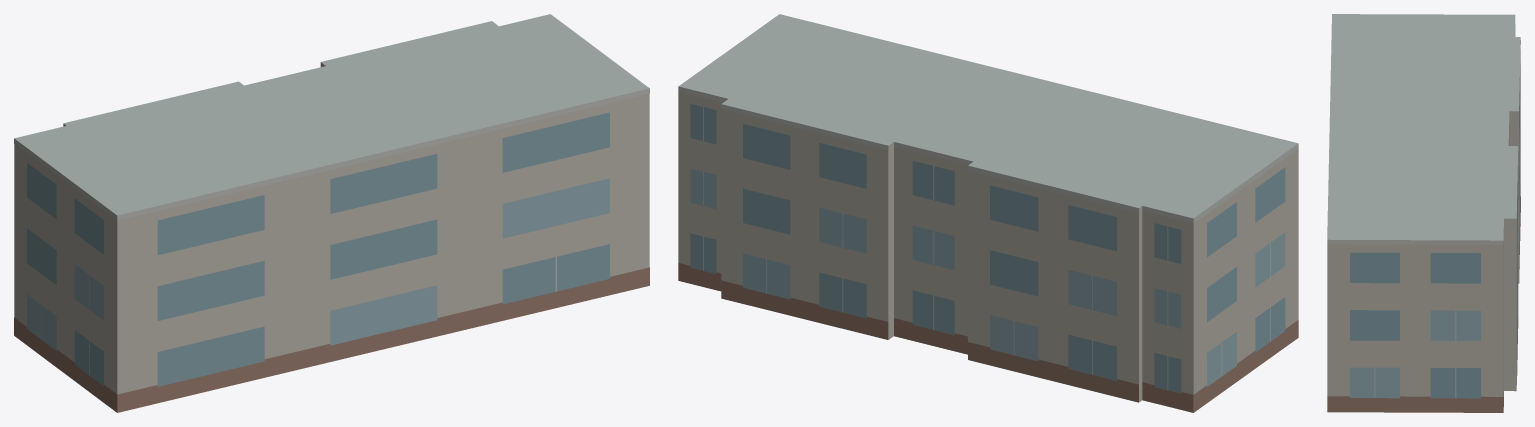
Rendered from survey-upis-32805415.glb.
The picture shows the model from 3 angles, left to right: view 1: azimuth 30°, elevation 25°; view 2: azimuth 150°, elevation 25°; view 3: azimuth 270°, elevation 25°; orthographic projection. The views are drawn at different scales.
Visible parts, largest first — view 1: survey-upis-32805415.tmp; view 2: survey-upis-32805415.tmp; view 3: survey-upis-32805415.tmp.
Part boxes in pixels (<box>): survey-upis-32805415.tmp: <box>14,14,649,412</box>; survey-upis-32805415.tmp: <box>678,14,1298,412</box>; survey-upis-32805415.tmp: <box>1327,14,1520,412</box>.
Size of the model in its own units: 25.79 by 9.15 by 9.32.
